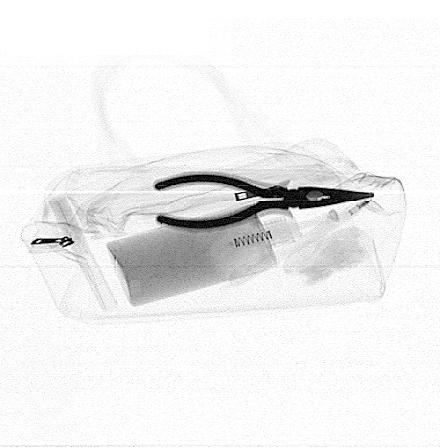Pliers: (150, 173, 380, 232)
